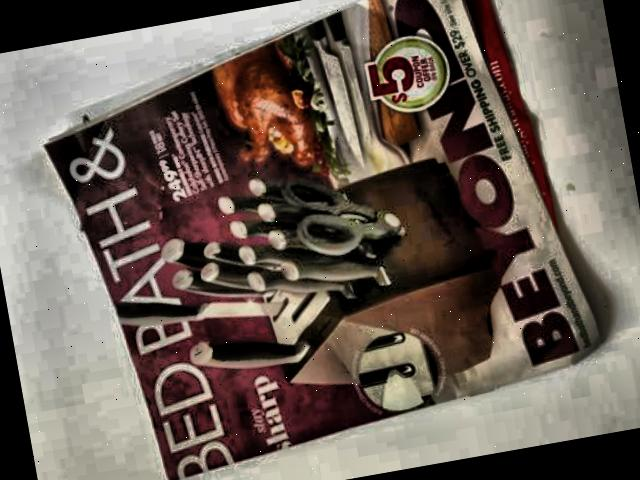Paper: (19, 0, 616, 480)
